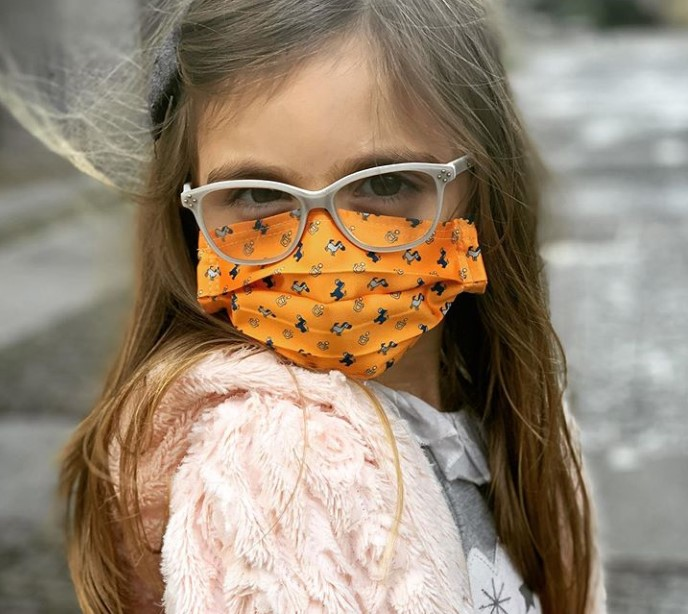face_with_mask: (155, 3, 496, 387)
